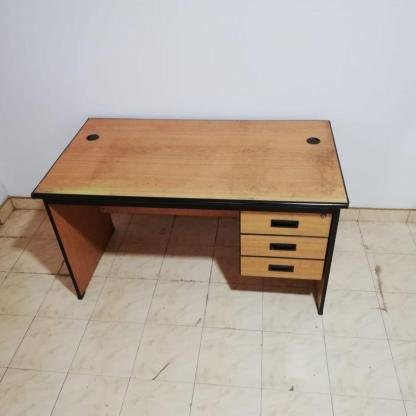Table: (21, 103, 372, 332)
